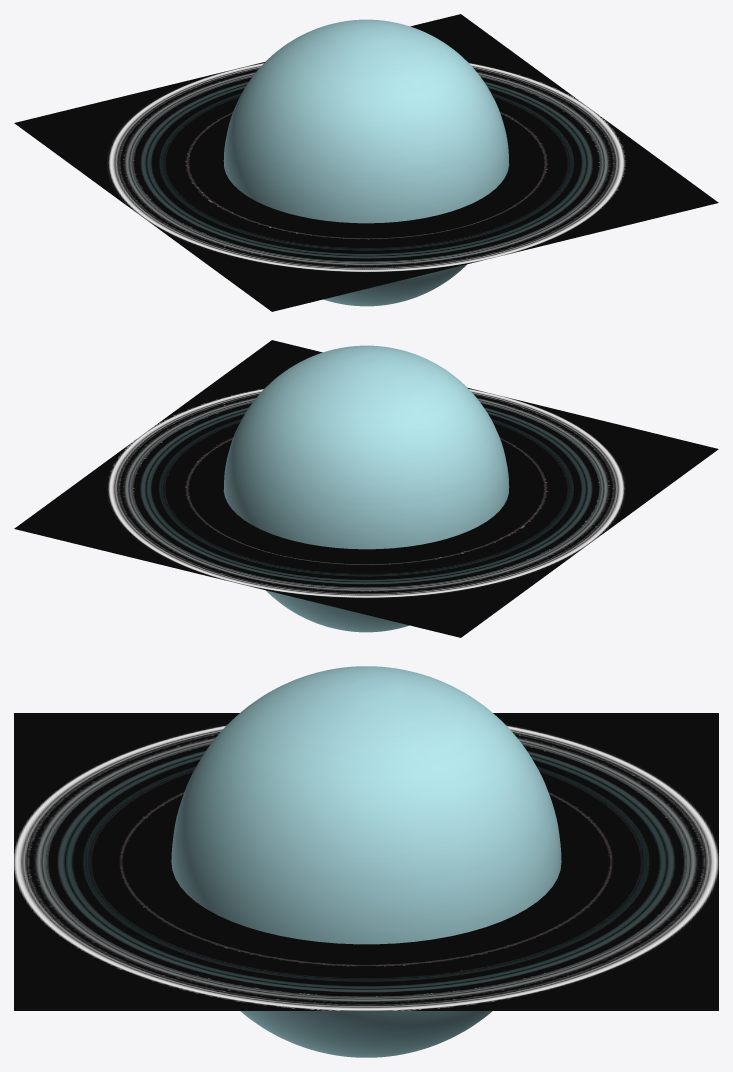
File: uranus.glb
The picture shows the model from 3 angles, top to bottom: view 1: azimuth 30°, elevation 25°; view 2: azimuth 150°, elevation 25°; view 3: azimuth 270°, elevation 25°; orthographic projection. The views are drawn at different scales.
Parts seen in each view (by area): view 1: Uranus (ring) _1, Uranus (main) _0; view 2: Uranus (ring) _1, Uranus (main) _0; view 3: Uranus (ring) _1, Uranus (main) _0.
Boxes of the visible parts, box(x1,y1,x2,y2) form: Uranus (ring) _1: box(14, 14, 718, 311); Uranus (main) _0: box(223, 19, 509, 306); Uranus (ring) _1: box(14, 340, 718, 637); Uranus (main) _0: box(223, 345, 509, 632); Uranus (ring) _1: box(14, 713, 718, 1010); Uranus (main) _0: box(171, 666, 561, 1057).
Size of the model in its own units: 115 by 63.81 by 115.
Materials: 2 (2 with a texture image).
